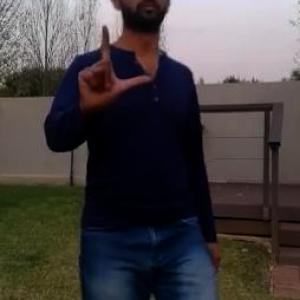land_hand: (77, 18, 156, 113)
